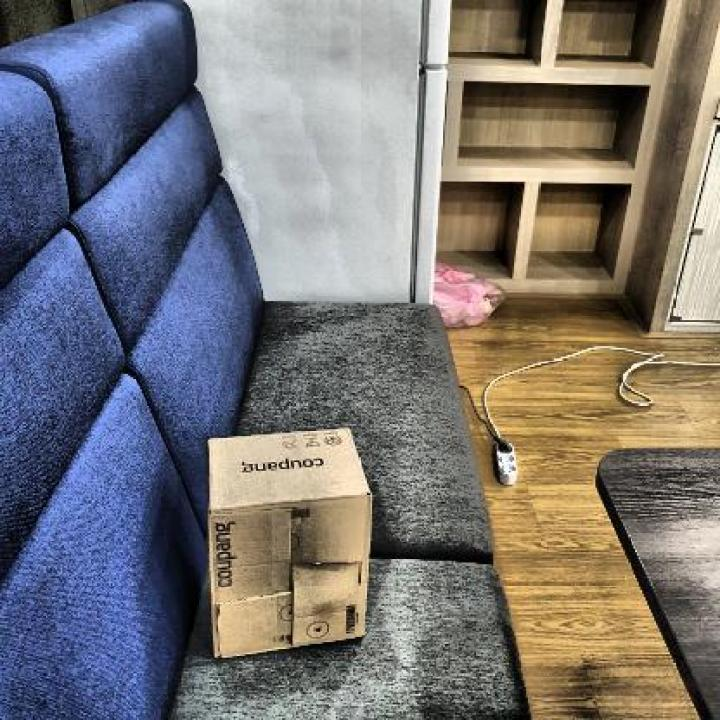package: (205, 425, 371, 659)
